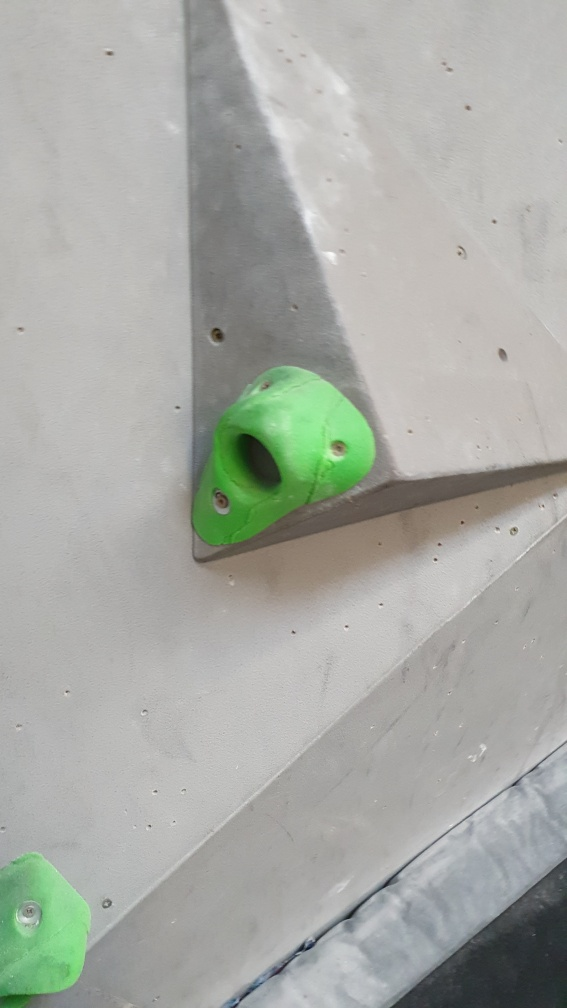Pocket: (190, 363, 381, 547)
